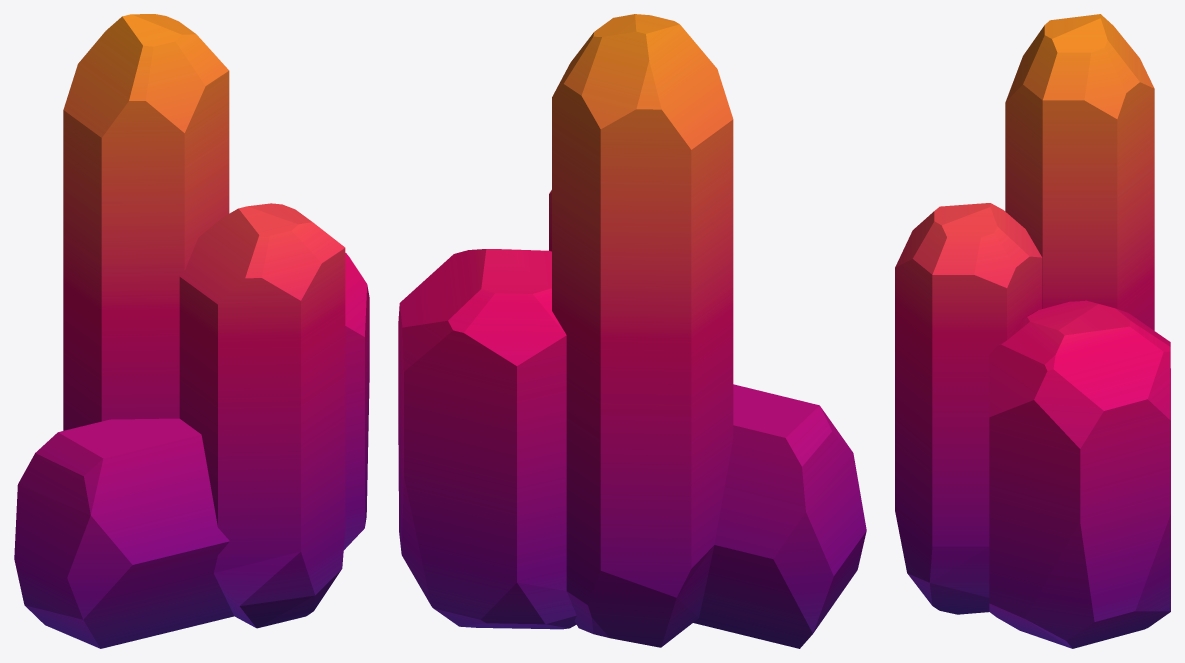
Rendered from cristales07.fbx.
3 renders of one model, left to right at view 1: azimuth 30°, elevation 25°; view 2: azimuth 150°, elevation 25°; view 3: azimuth 270°, elevation 25°, orthographic. The views are drawn at different scales.
Parts seen in each view (by area): view 1: cristal01; view 2: cristal01; view 3: cristal01.
Part boxes in pixels (x1,y1,x2,y2): cristal01: (14, 14, 369, 648); cristal01: (398, 14, 866, 648); cristal01: (895, 14, 1170, 648).
Size of the model in its own units: 567 by 817 by 369.
Materials: 1 (1 with a texture image).
